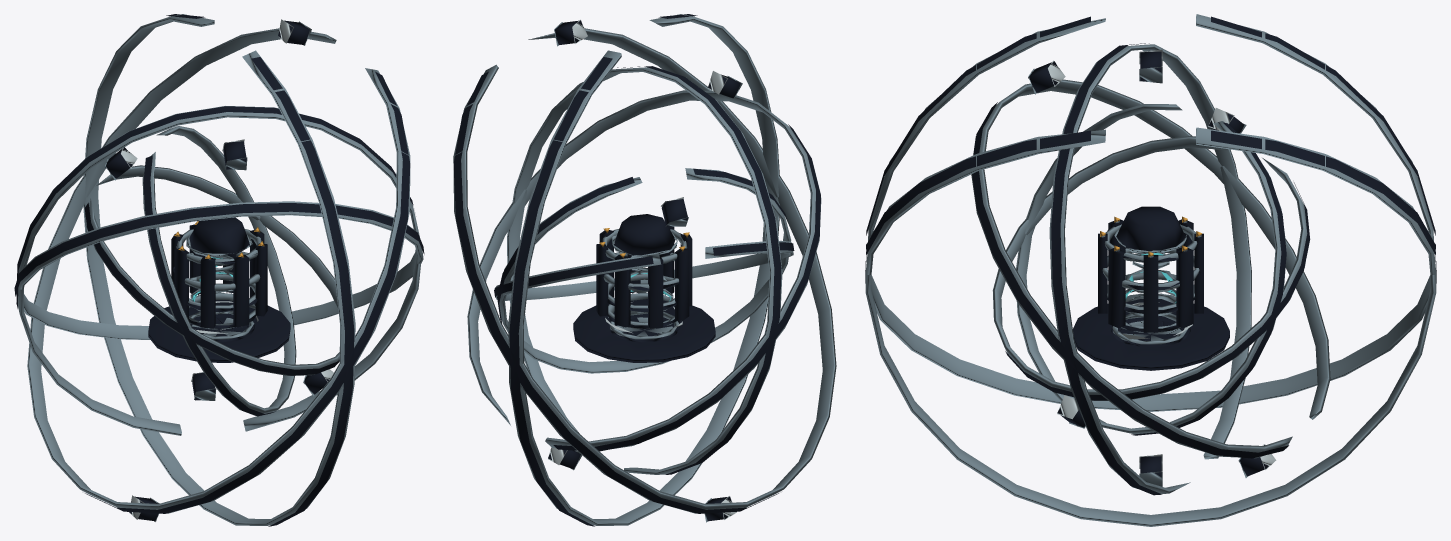
Rendered from sol82_platform_distance.meshopt.glb.
The picture shows the model from 3 angles, left to right: view 1: azimuth 30°, elevation 25°; view 2: azimuth 150°, elevation 25°; view 3: azimuth 270°, elevation 25°; orthographic projection. The views are drawn at different scales.
Visible parts, largest first — view 1: SOL82_DISTANCE_GEOMETRY; view 2: SOL82_DISTANCE_GEOMETRY; view 3: SOL82_DISTANCE_GEOMETRY.
Part boxes in pixels (x1,y1,x2,y2): SOL82_DISTANCE_GEOMETRY: (14, 14, 424, 526); SOL82_DISTANCE_GEOMETRY: (453, 14, 836, 526); SOL82_DISTANCE_GEOMETRY: (865, 14, 1436, 526).
Size of the model in its own units: 29.8 by 38.56 by 38.67.
